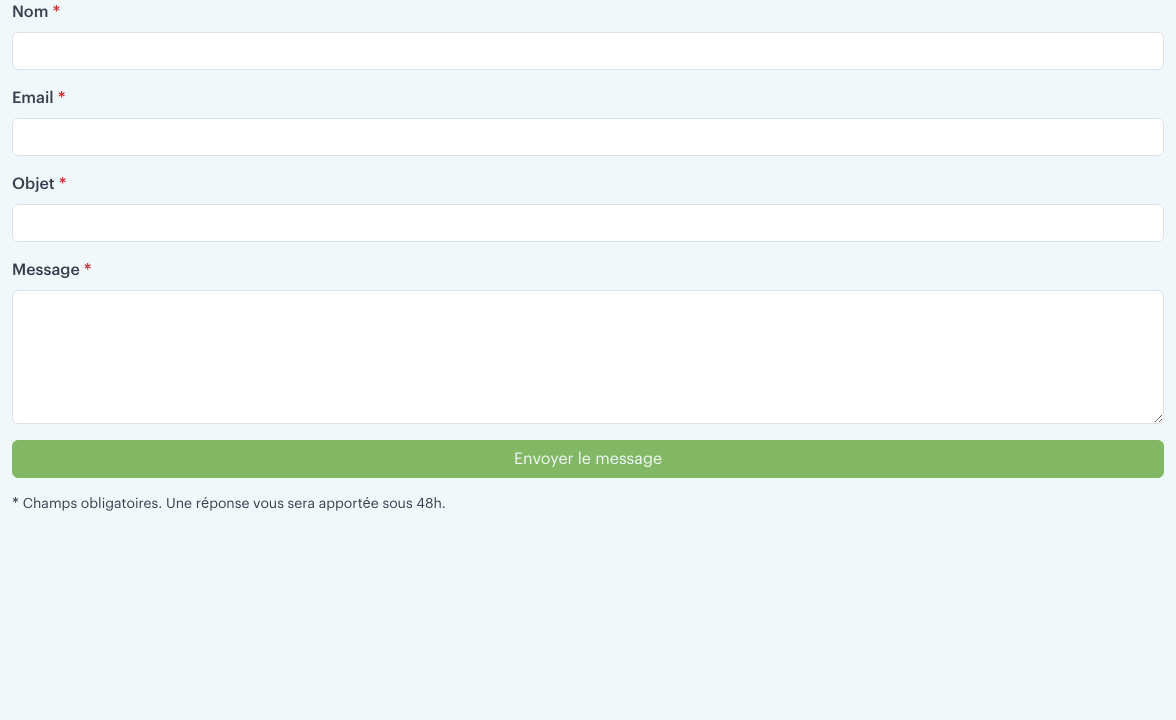
Test: ContactForm › rejette un email invalide
Type "Jean Dupont" into the field labelled "Nom *" at (588, 51), box 12,32 -> 1164,70
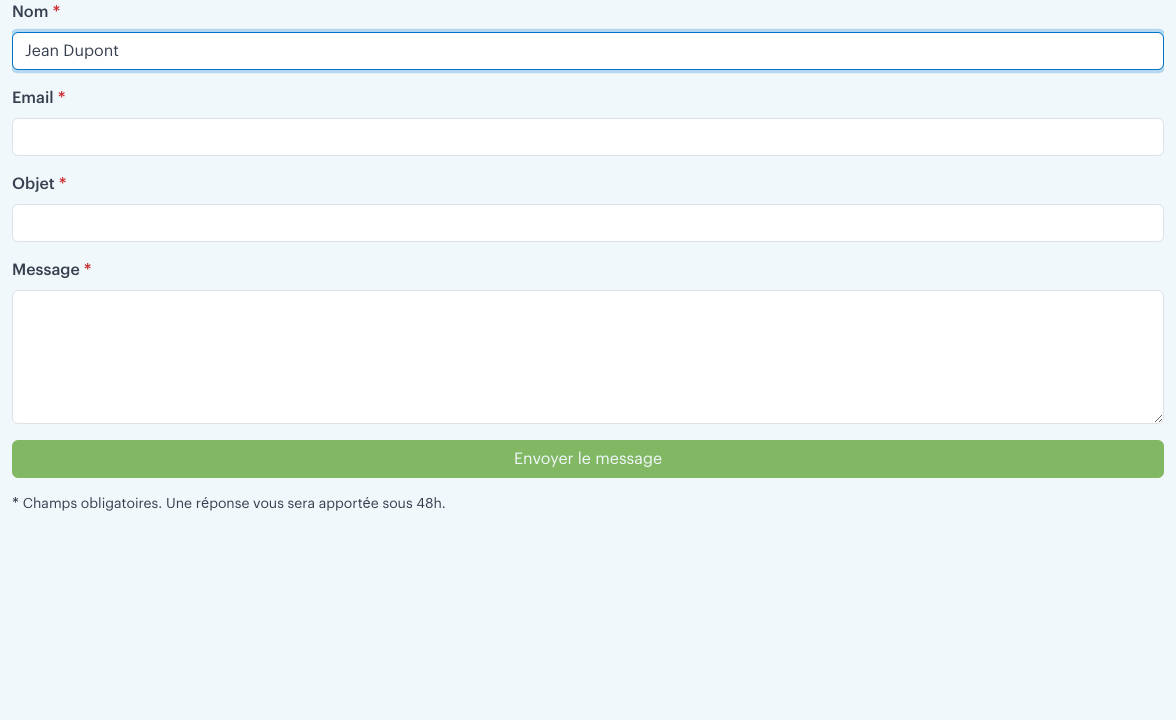
Type "email-invalide" into the field labelled "Email *" at (588, 137), box 12,118 -> 1164,156
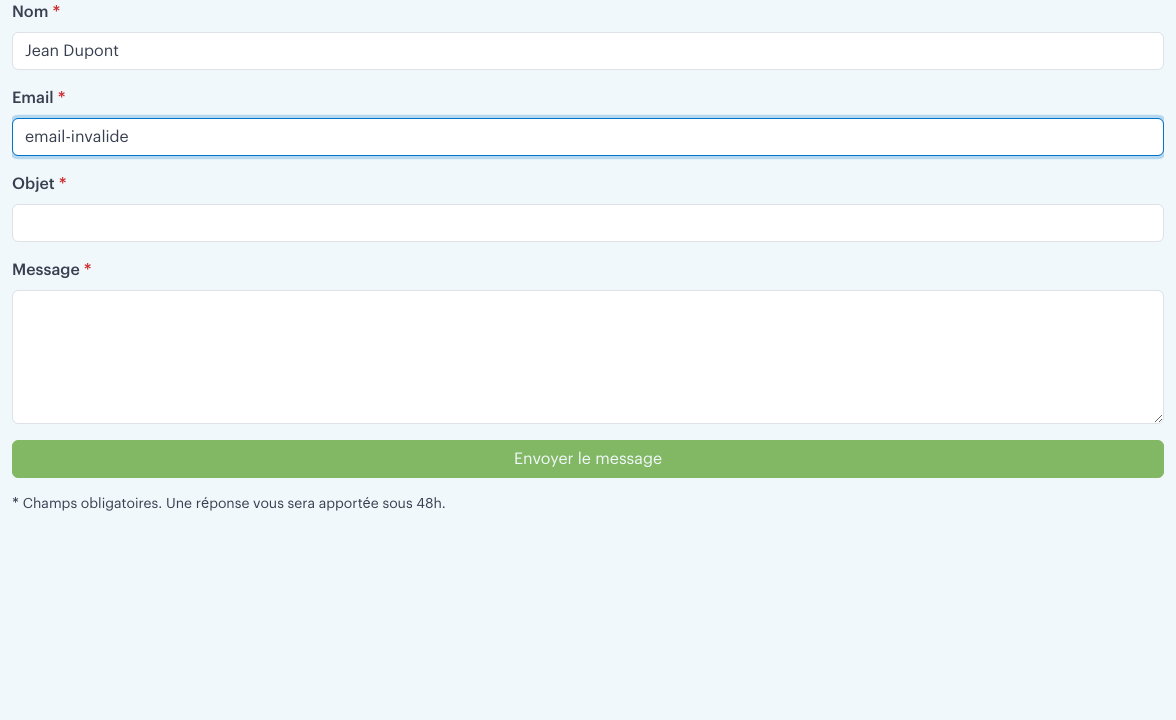
Type "Devis" into the field labelled "Objet *" at (588, 223), box 12,204 -> 1164,242
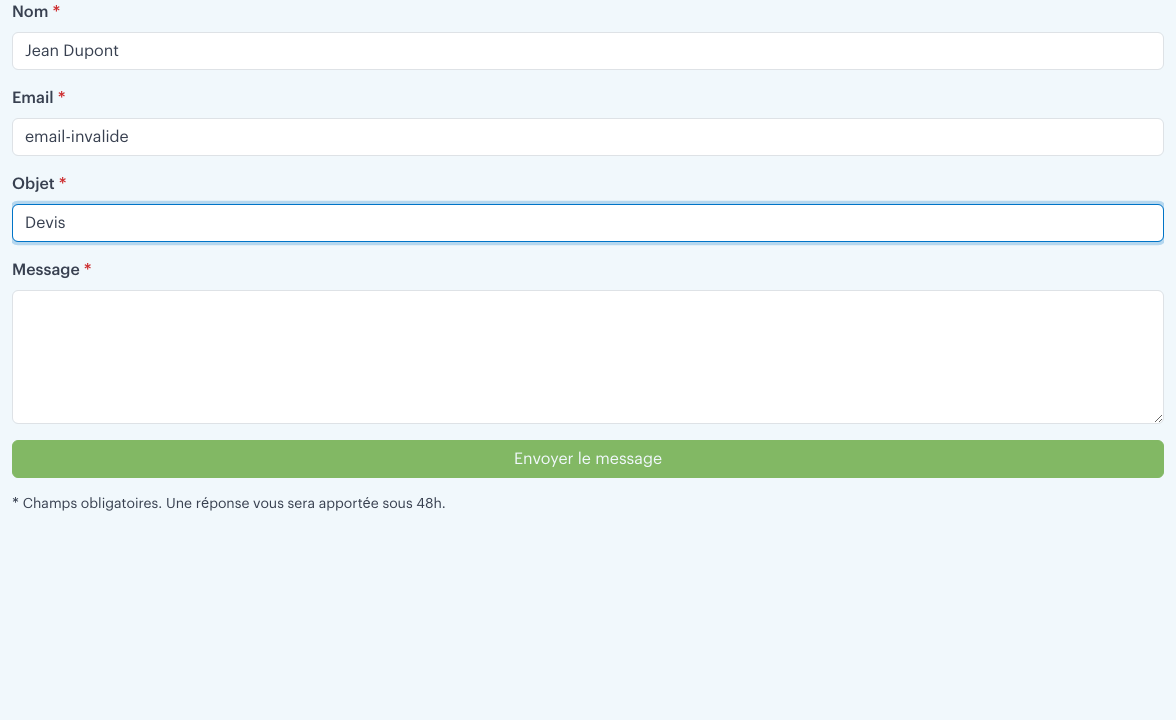
Type "Message suffisamment long" into the text box labelled "Message *" at (588, 357), box 12,290 -> 1164,424
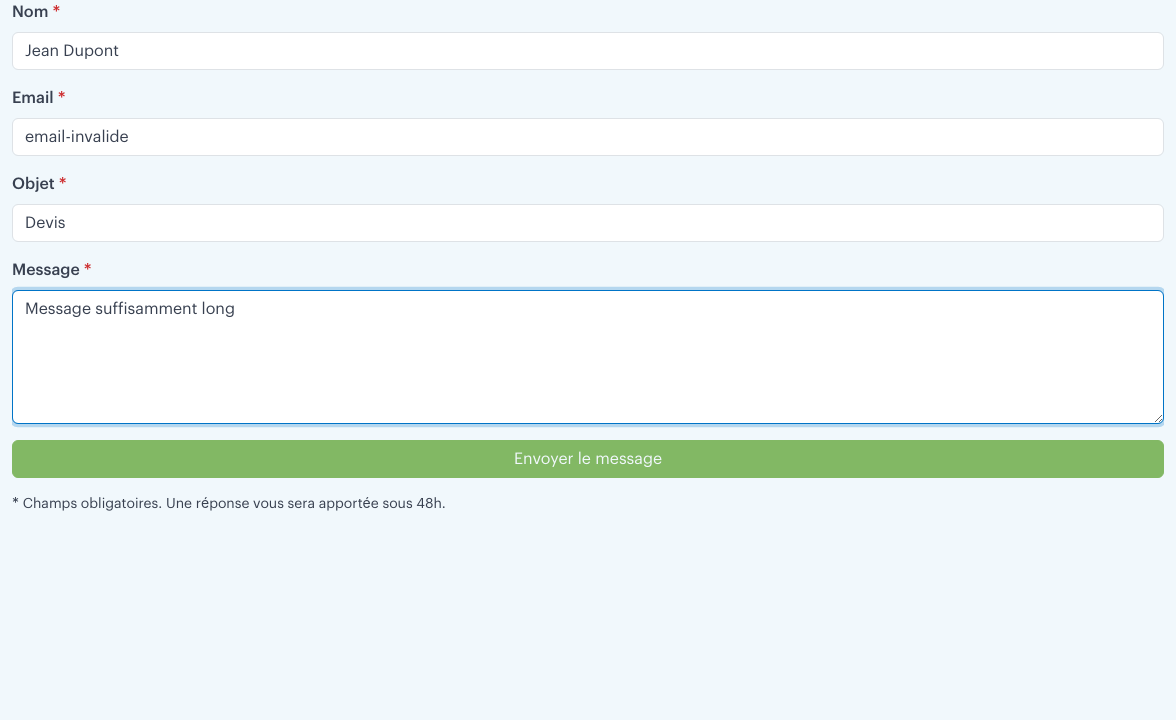
Click the button "Envoyer le message" at (588, 459), box 12,440 -> 1164,478
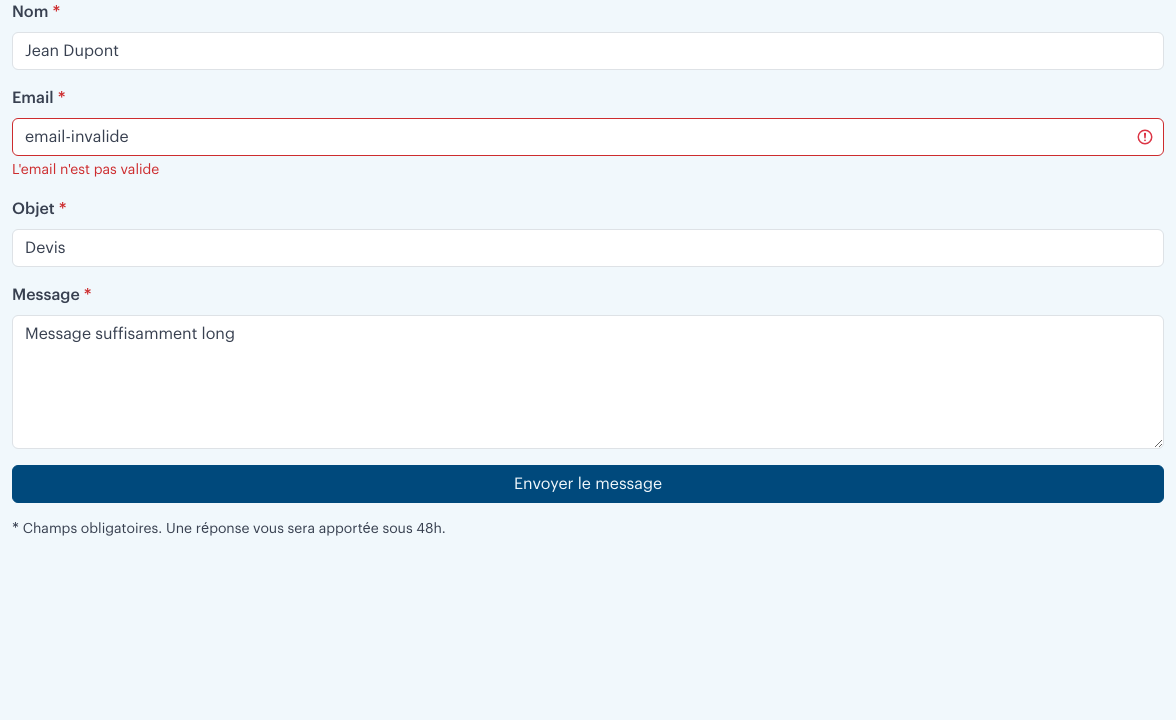
Expected: the text "L'email n'est pas valide" is shown, 12,163 -> 159,177
